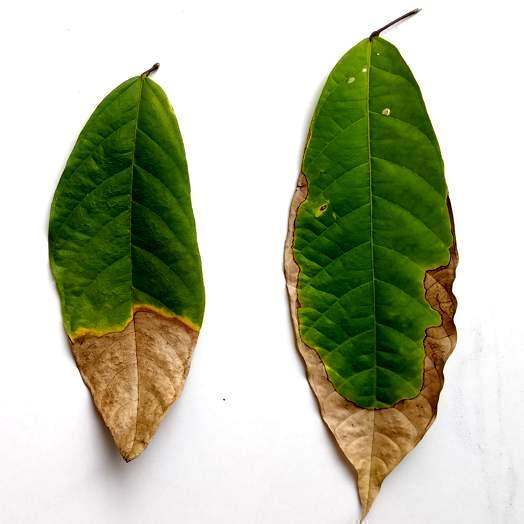Potassium: (285, 10, 457, 515), (50, 64, 204, 460)
